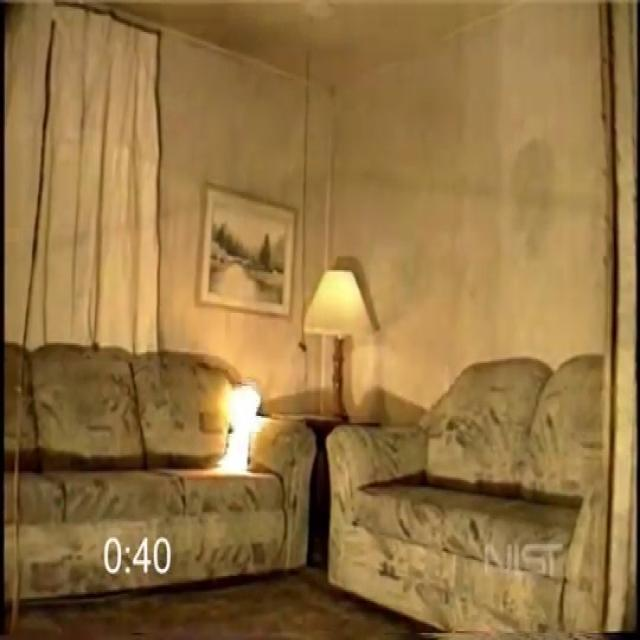Fire: (203, 354, 273, 478)
